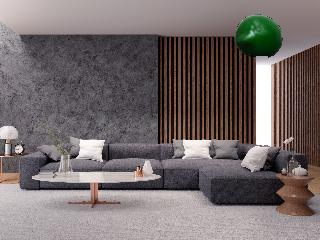lime: (234, 14, 282, 58)
